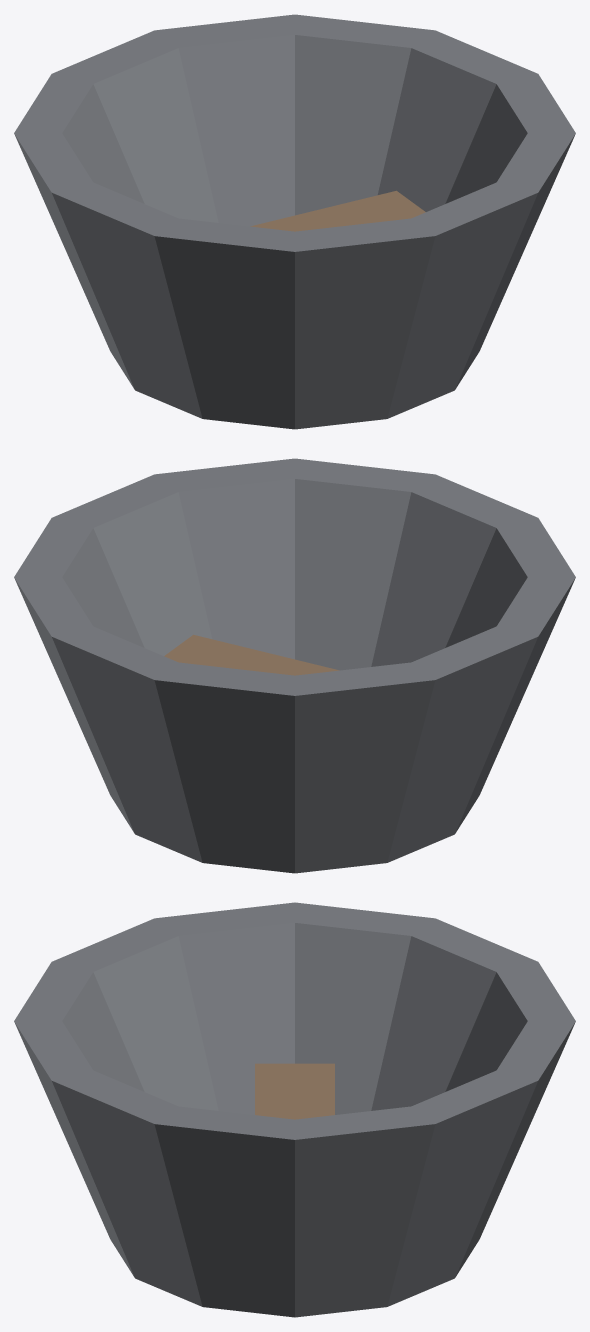
File: feudal-japan-castle-town-brazier-9388cf90__26435.glb
3 views of the same model, one above another, from view 1: azimuth 30°, elevation 25°; view 2: azimuth 150°, elevation 25°; view 3: azimuth 270°, elevation 25° (orthographic).
Visible parts, largest first — view 1: brazier; view 2: brazier; view 3: brazier.
Boxes of the visible parts, x1,y1,x2,y2 form: brazier: [14, 14, 575, 429]; brazier: [14, 458, 575, 873]; brazier: [14, 902, 575, 1317].
Bounding box in the file's own units: 0.7 × 0.3 × 0.7.
